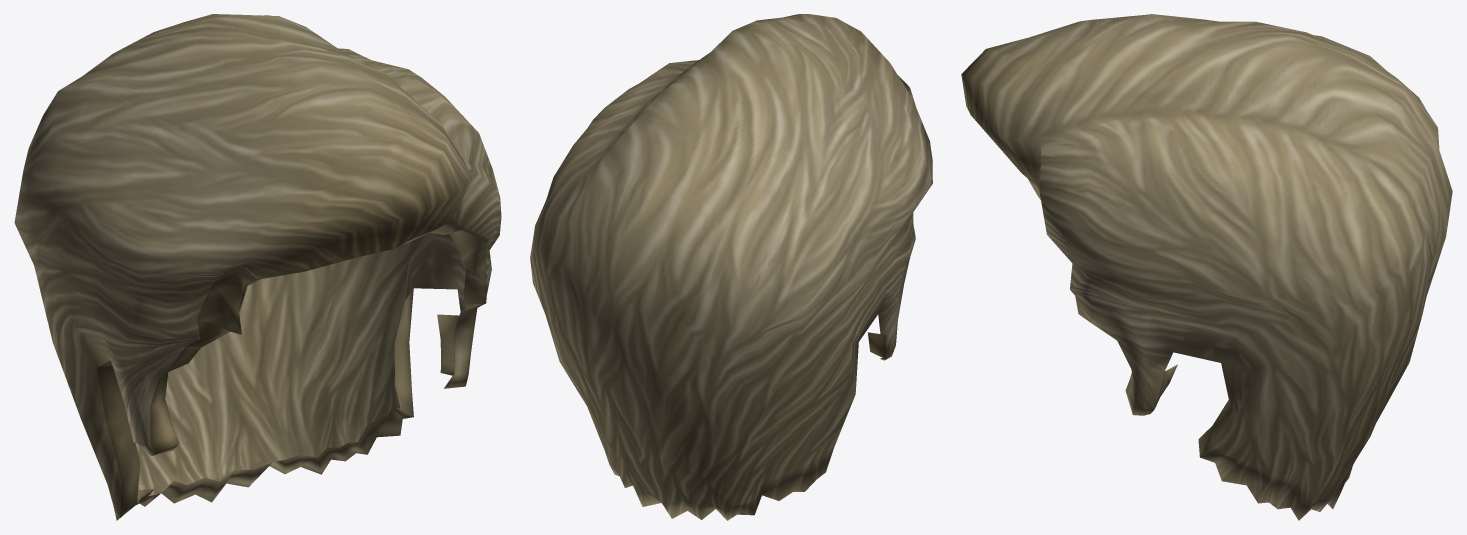
File: hair4.fbx
3 views of the same model, side by side, from view 1: azimuth 30°, elevation 25°; view 2: azimuth 150°, elevation 25°; view 3: azimuth 270°, elevation 25° (orthographic). The views are drawn at different scales.
Visible parts, largest first — view 1: Hair.001; view 2: Hair.001; view 3: Hair.001.
Part boxes in pixels (bbox=[...]): Hair.001: bbox=[14, 14, 501, 520]; Hair.001: bbox=[530, 14, 932, 520]; Hair.001: bbox=[961, 14, 1452, 520].
Bounding box in the file's own units: 316 × 416 × 393.
